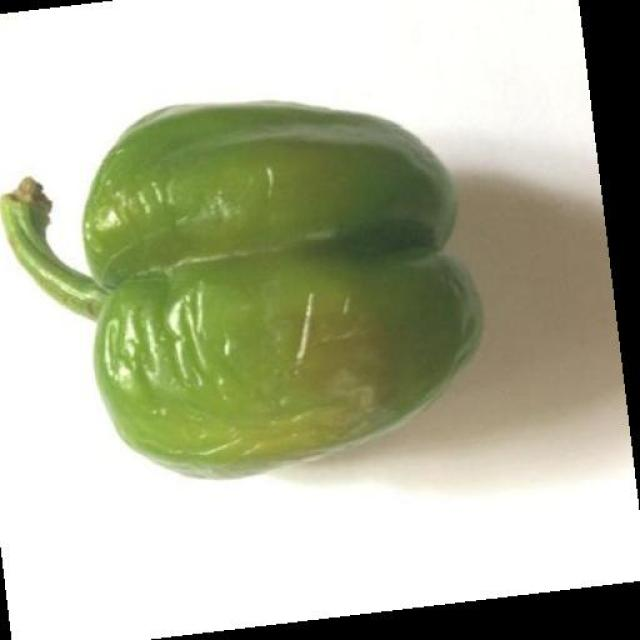Stale_Capsicum: (125, 115, 443, 458)
